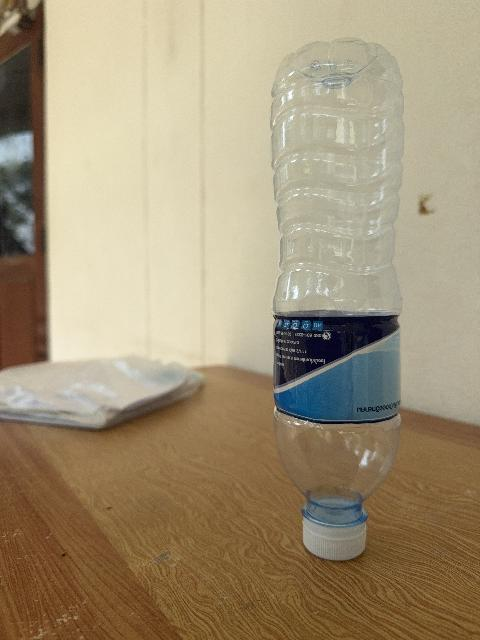bottle: (271, 39, 403, 559)
